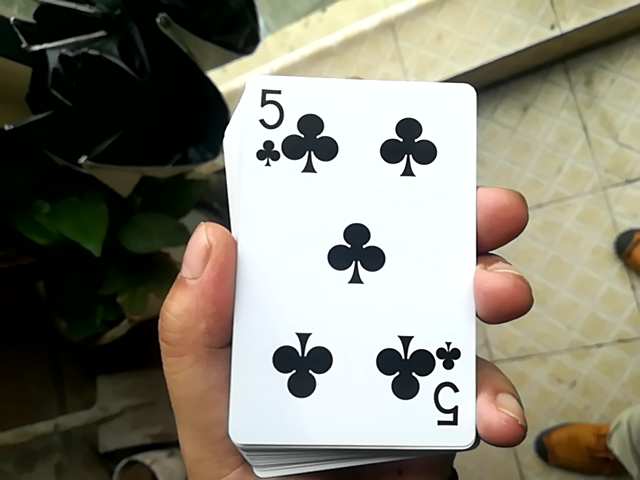mh 5: (224, 68, 475, 450)
